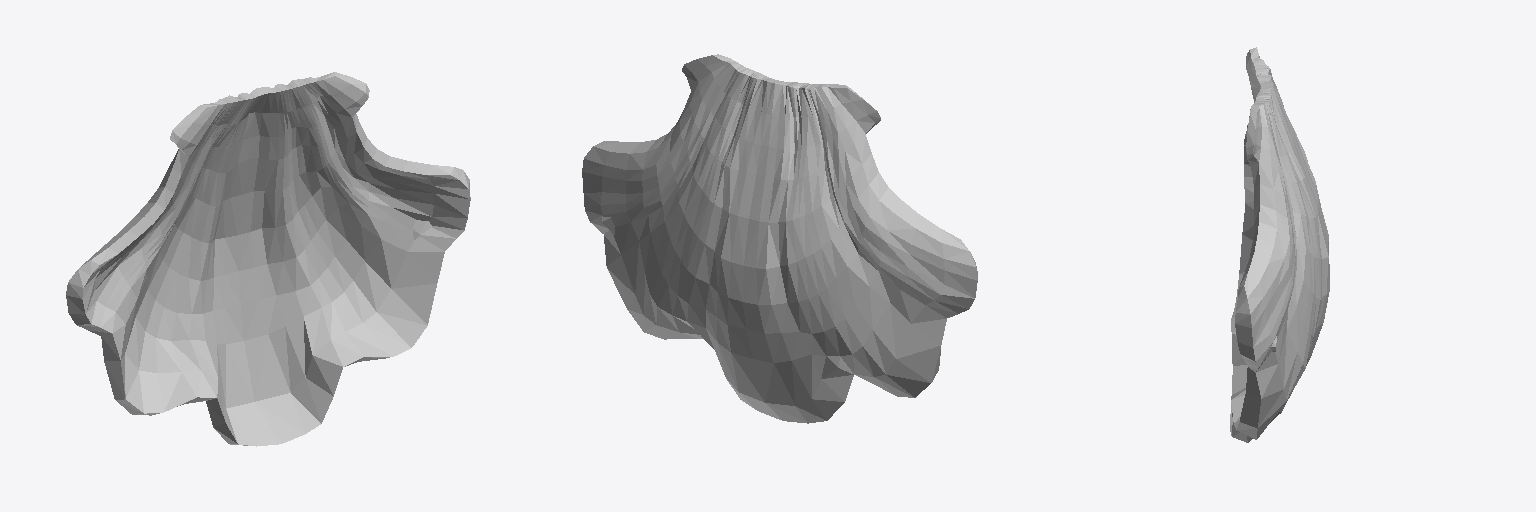
The model's file is clam_v2.OBJ.
3 views of the same model, side by side, from view 1: azimuth 30°, elevation 25°; view 2: azimuth 150°, elevation 25°; view 3: azimuth 270°, elevation 25° (orthographic).
Visible parts, largest first — view 1: ZBrushPolyMesh3D; view 2: ZBrushPolyMesh3D; view 3: ZBrushPolyMesh3D.
Part boxes in pixels (x1,y1,x2,y2): ZBrushPolyMesh3D: (66, 72, 470, 446); ZBrushPolyMesh3D: (582, 54, 977, 423); ZBrushPolyMesh3D: (1230, 47, 1329, 442).
Bounding box in the file's own units: 10.92 × 9.19 × 2.39.